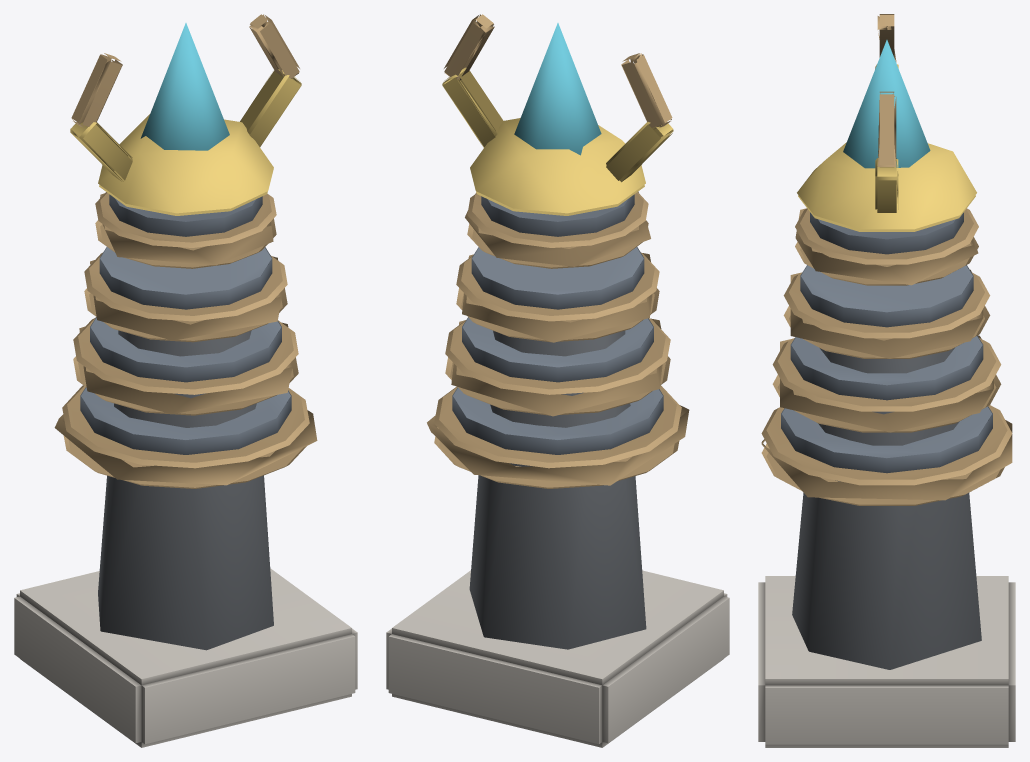
Rendered from hidden_proctor_tesla_lod1.glb.
3 renders of one model, left to right at view 1: azimuth 30°, elevation 25°; view 2: azimuth 150°, elevation 25°; view 3: azimuth 270°, elevation 25°, orthographic.
Visible parts, largest first — view 1: hidden_proctor_tesla.001; view 2: hidden_proctor_tesla.001; view 3: hidden_proctor_tesla.001.
Boxes of the visible parts, x1,y1,x2,y2 form: hidden_proctor_tesla.001: (14,14,357,747); hidden_proctor_tesla.001: (386,14,729,747); hidden_proctor_tesla.001: (758,14,1015,747).
Size of the model in its own units: 1.15 by 3.24 by 1.15.
